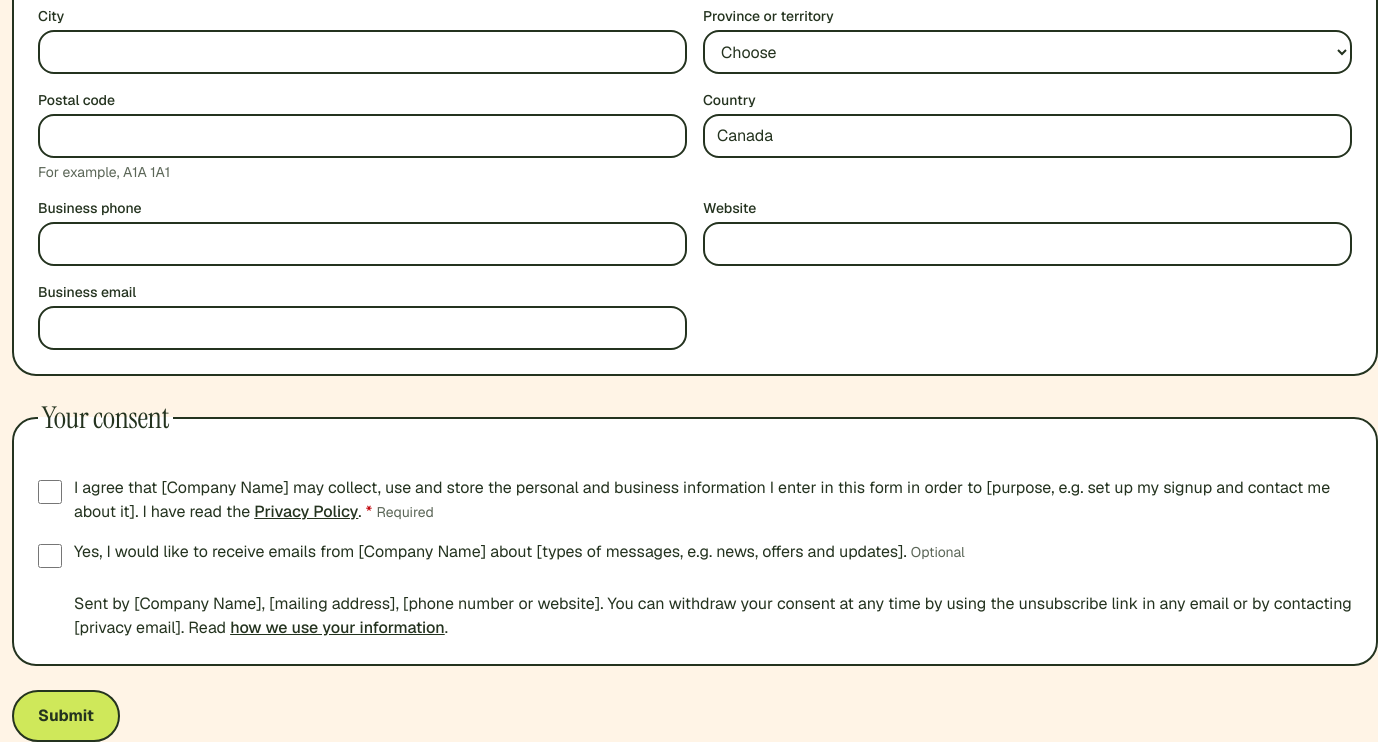
Test: sign up form › shows plain errors next to each empty required field and sends nothing
The width and height of the screenshot is (1378, 742).
(page scrolled)
Click the button "Submit".
click(66, 716)  # box 12,690 -> 120,741
(page scrolled)
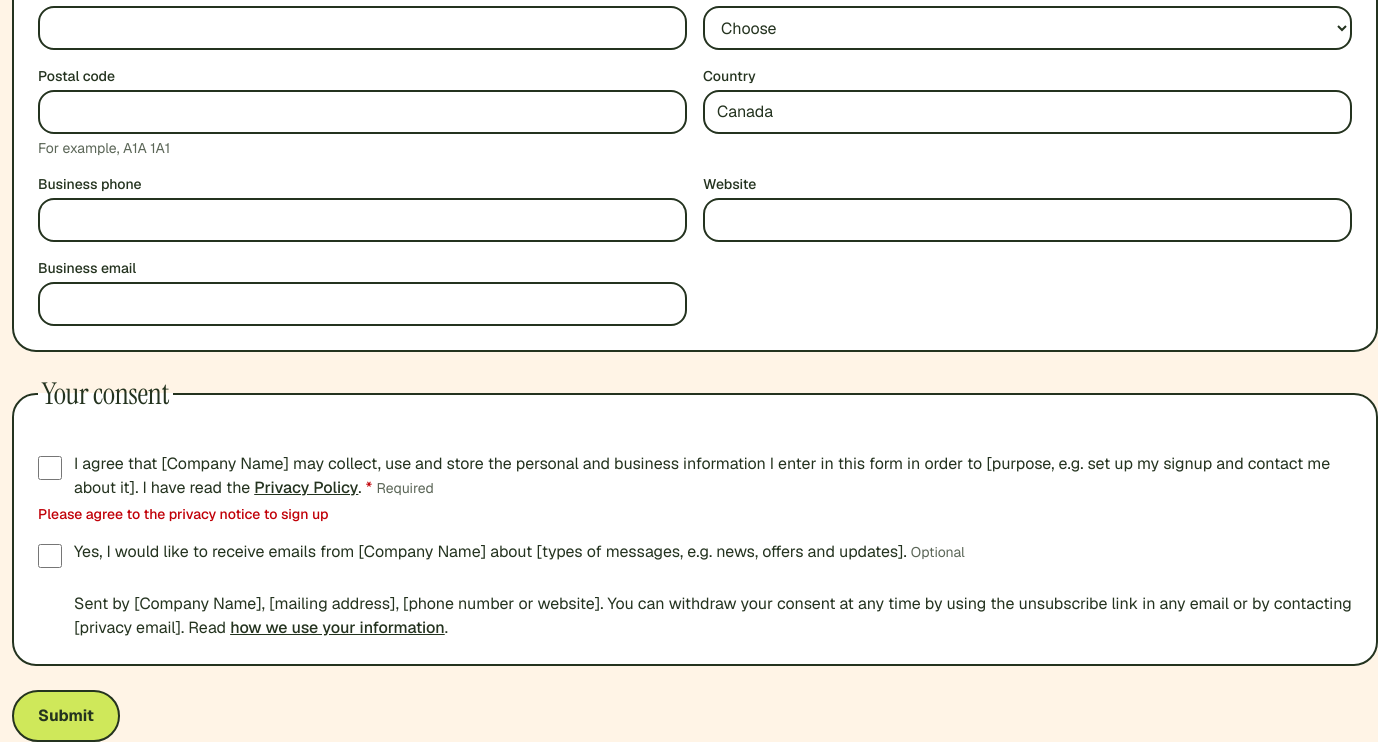
Expected: the text "Please agree to the privacy notice to sign up" is shown, 38,505 -> 329,523
